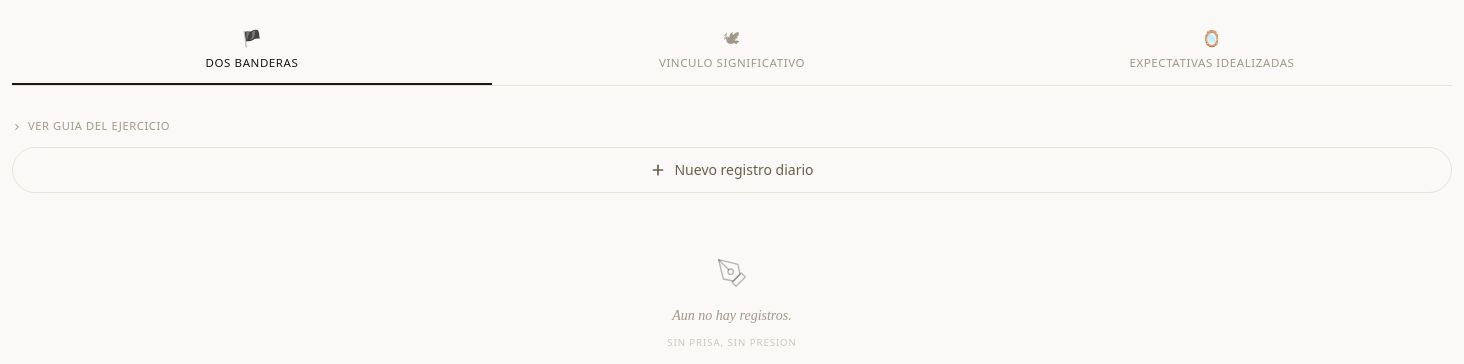
Test: ExerciseTabs › uses startViewTransition when available
The image size is (1464, 364).
What coordinates should you click on to do the following:
click the text "Vinculo Significativo"
I would click on:
 (732, 63)
Its box is [659, 54, 805, 71].
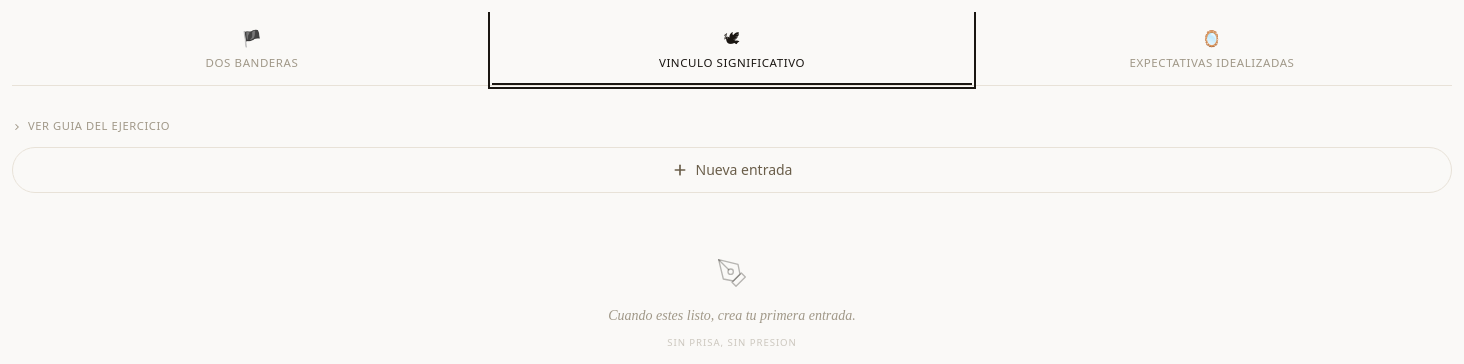
Now the button "Nueva entrada" is shown, box [12, 147, 1452, 193]
